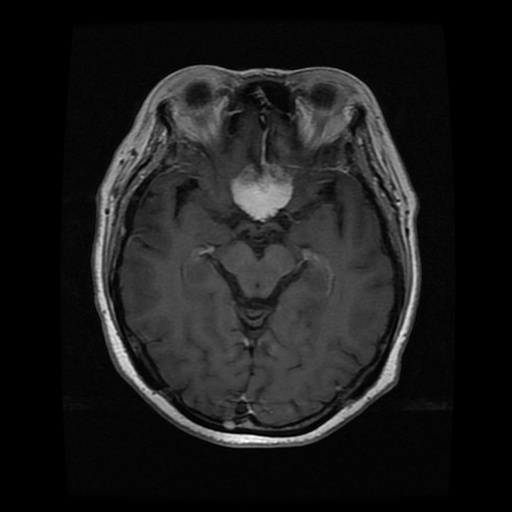meningioma: (232, 161, 293, 221)
